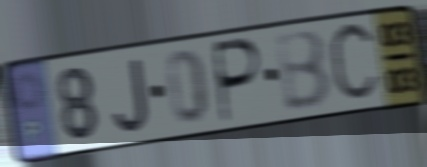0: (163, 46, 212, 129)
8: (55, 65, 101, 144)
B: (272, 26, 334, 115)
C: (326, 17, 382, 110)
J: (110, 54, 152, 136)
P: (213, 36, 265, 127)
